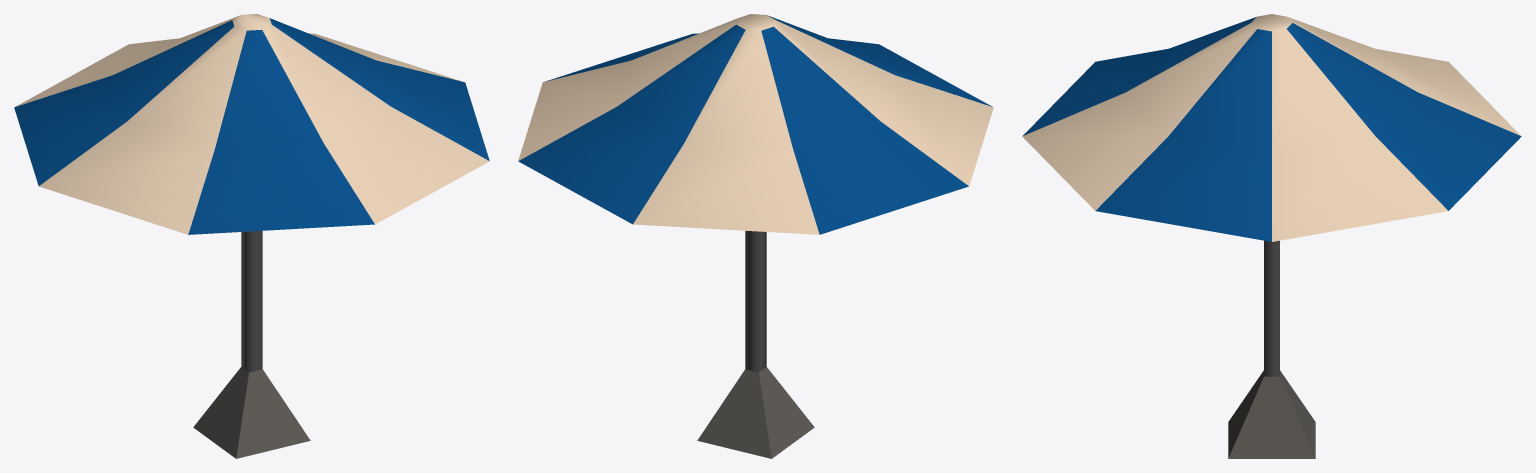
The model's file is Umbrella_A3.fbx.
3 views of the same model, side by side, from view 1: azimuth 30°, elevation 25°; view 2: azimuth 150°, elevation 25°; view 3: azimuth 270°, elevation 25° (orthographic).
Parts seen in each view (by area): view 1: Umbrella_A3; view 2: Umbrella_A3; view 3: Umbrella_A3.
Part boxes in pixels (x1,y1,x2,y2): Umbrella_A3: (14,14,489,458); Umbrella_A3: (518,14,993,458); Umbrella_A3: (1022,14,1521,458).
Size of the model in its own units: 293 by 270 by 293.
